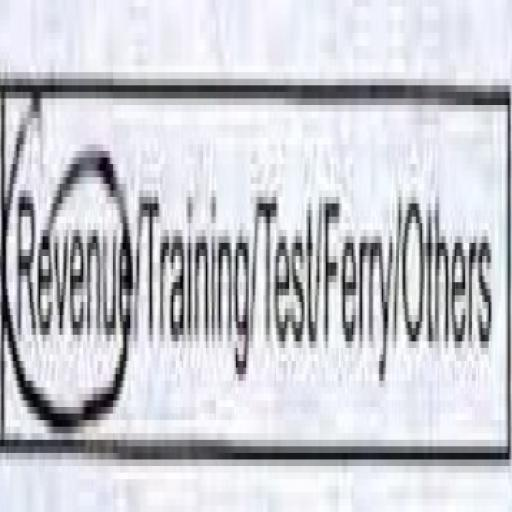check: (0, 7, 140, 512)
